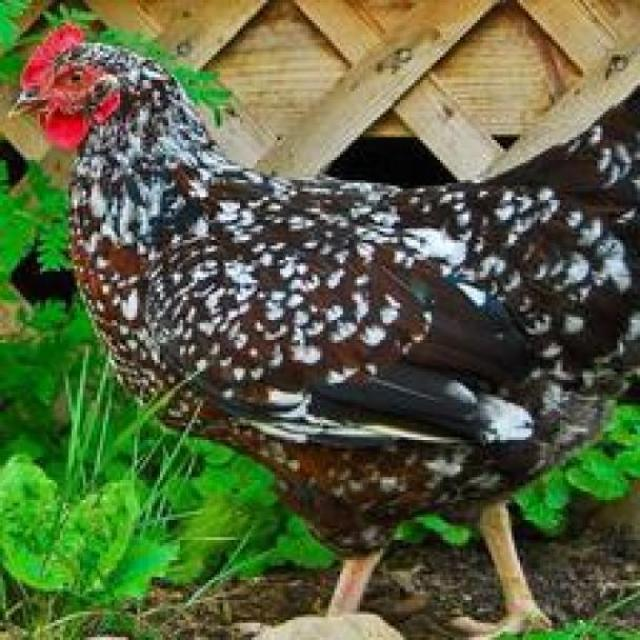Chicken: (3, 23, 640, 640)
